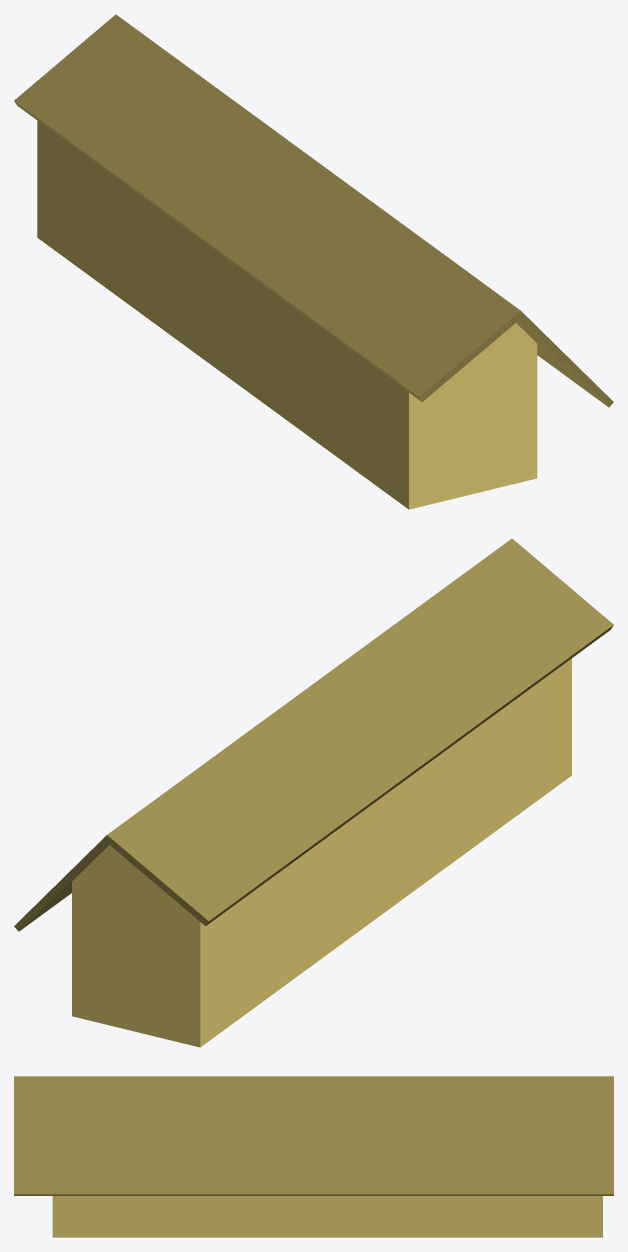
Rendered from result.glb.
3 views of the same model, one above another, from view 1: azimuth 30°, elevation 25°; view 2: azimuth 150°, elevation 25°; view 3: azimuth 270°, elevation 25° (orthographic). The views are drawn at different scales.
Visible parts, largest first — view 1: aa2fdb78-27a0-4355-82a6-29971f1c549e__undefined (×2), 53c1c860-4fdb-4f9e-9496-7499823351c6__undefined; view 2: aa2fdb78-27a0-4355-82a6-29971f1c549e__undefined (×2), 53c1c860-4fdb-4f9e-9496-7499823351c6__undefined; view 3: aa2fdb78-27a0-4355-82a6-29971f1c549e__undefined, 53c1c860-4fdb-4f9e-9496-7499823351c6__undefined.
Part boxes in pixels (x1,y1,x2,y2): aa2fdb78-27a0-4355-82a6-29971f1c549e__undefined (×2): (14,14,613,407); 53c1c860-4fdb-4f9e-9496-7499823351c6__undefined: (37,120,537,509); aa2fdb78-27a0-4355-82a6-29971f1c549e__undefined (×2): (14,538,613,931); 53c1c860-4fdb-4f9e-9496-7499823351c6__undefined: (72,658,571,1047); aa2fdb78-27a0-4355-82a6-29971f1c549e__undefined: (14,1076,613,1195); 53c1c860-4fdb-4f9e-9496-7499823351c6__undefined: (52,1196,602,1237).
Bounding box in the file's own units: 762 × 736 × 2742.
